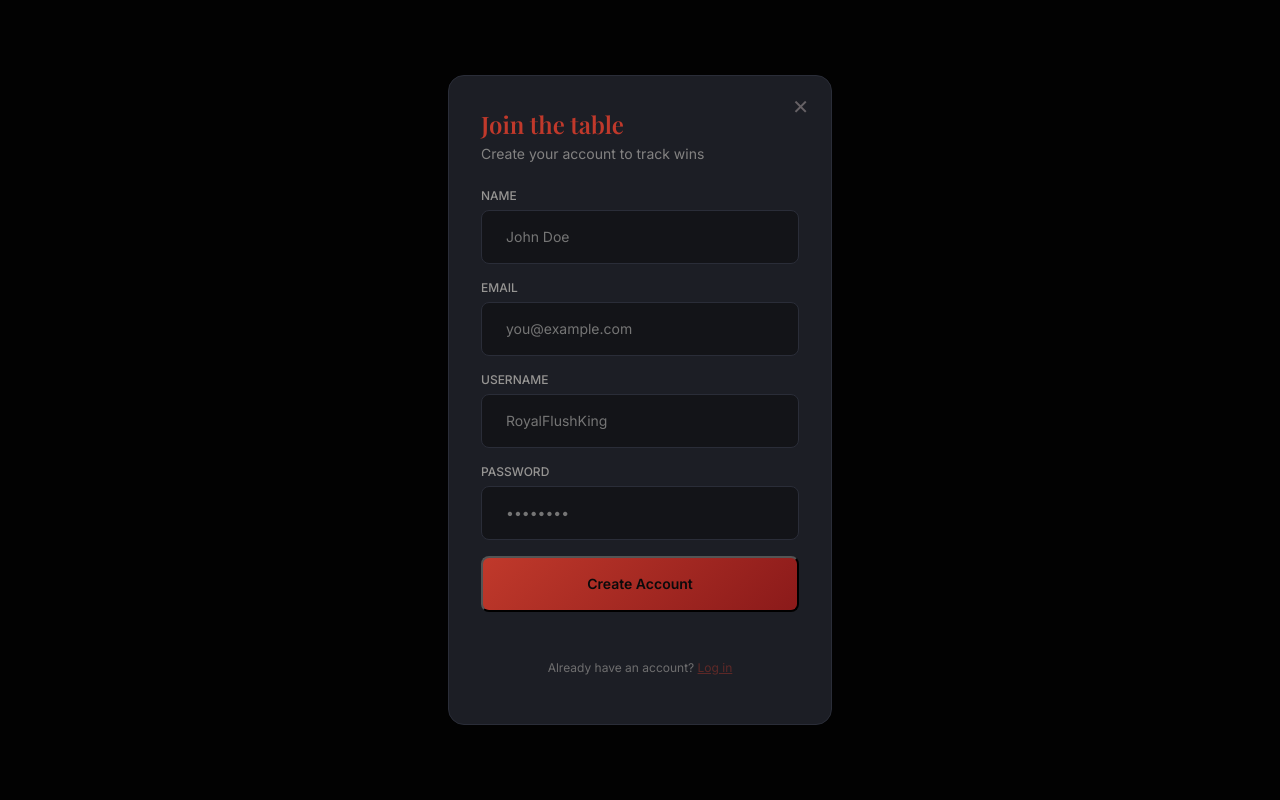
it: SignUpView Component Tests › Displays error when email already exists
The image size is (1280, 800).
Click the button "Create Account": (640,584) [481,556,799,612]
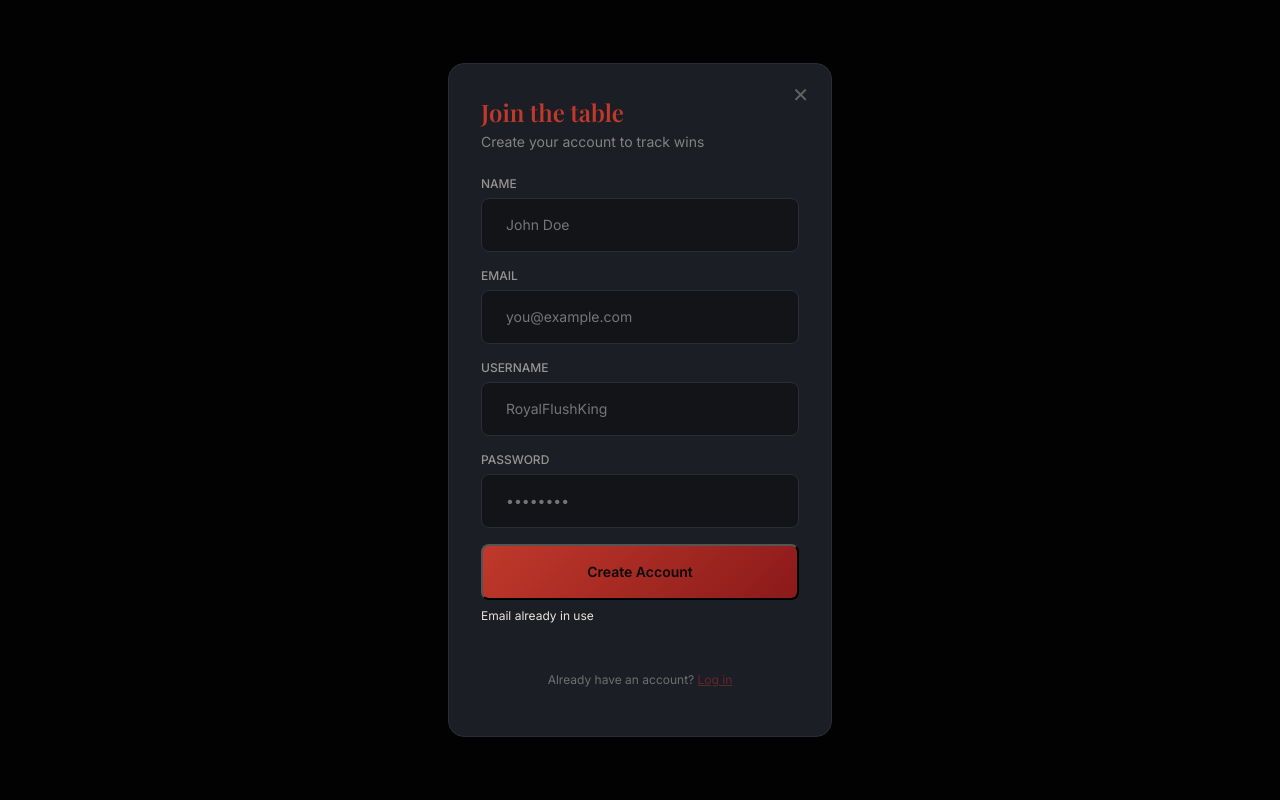
Check: the text "Email already in use" is shown, box [481,608,594,623]
